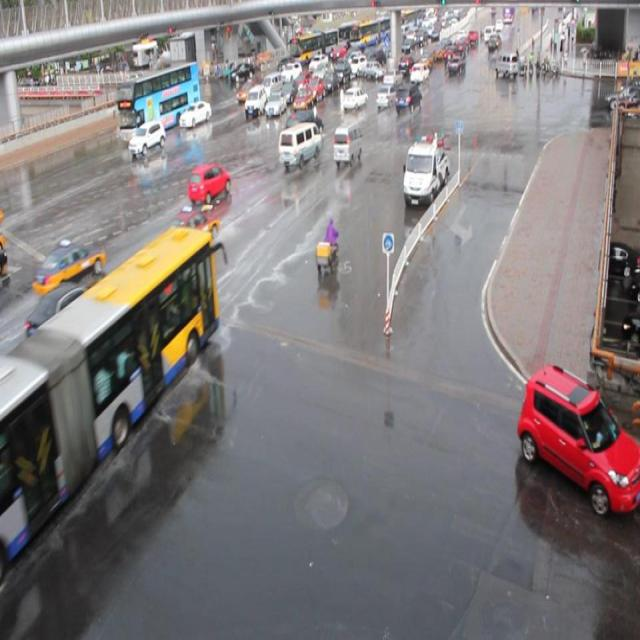bus: (402, 136, 448, 205)
car: (516, 362, 640, 513), (26, 282, 112, 364), (153, 205, 220, 268), (31, 238, 105, 295), (187, 162, 230, 204), (284, 109, 322, 145), (128, 119, 166, 155), (393, 81, 422, 113), (179, 100, 211, 128), (342, 86, 368, 110), (236, 78, 262, 102), (264, 91, 286, 116), (375, 84, 398, 107), (292, 86, 312, 112), (279, 80, 298, 103), (305, 77, 324, 100), (292, 72, 311, 93)
truck: (277, 121, 320, 168), (332, 122, 362, 166), (246, 84, 268, 116), (260, 72, 283, 98)
van: (1, 225, 218, 570), (116, 59, 200, 142)
